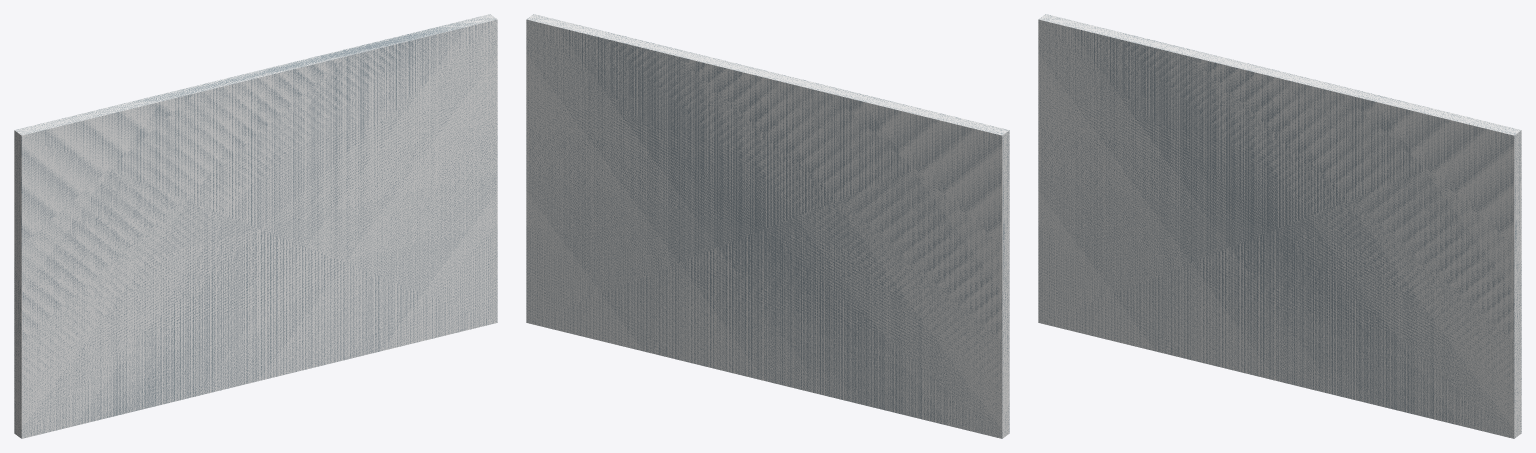
File: 4.5x4.5x2 fourth wall.fbx
3 renders of one model, left to right at view 1: azimuth 30°, elevation 25°; view 2: azimuth 150°, elevation 25°; view 3: azimuth 330°, elevation 25°, orthographic.
Visible parts, largest first — view 1: Group2; view 2: Group2; view 3: Group2.
Part boxes in pixels (x1,y1,x2,y2): Group2: [14, 14, 497, 438]; Group2: [526, 14, 1009, 438]; Group2: [1038, 14, 1521, 438].
Bounding box in the file's own units: 450 × 274 × 12.33.
